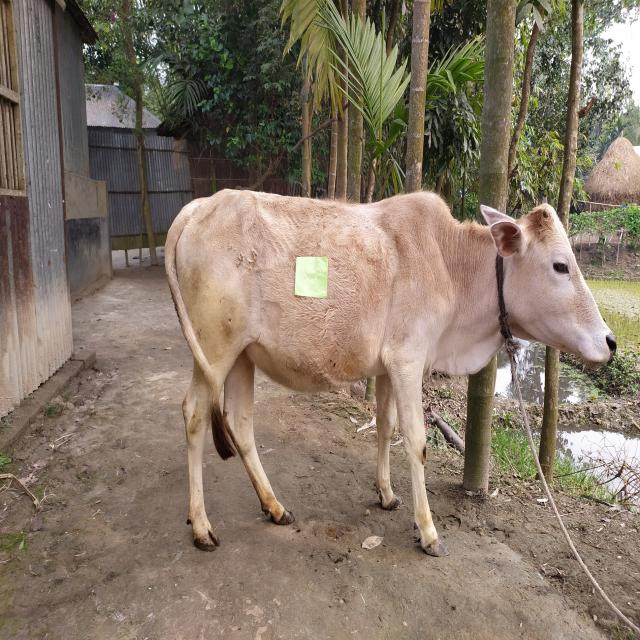badan_sapi: (195, 194, 432, 380)
sapi: (163, 190, 619, 562)
